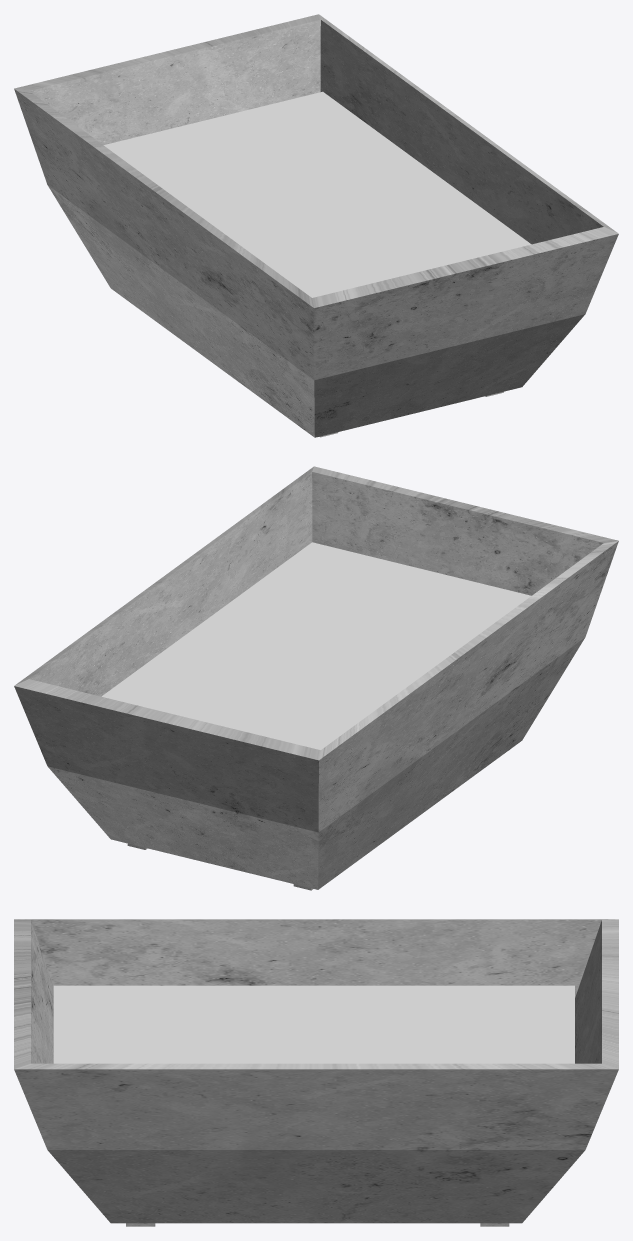
Rendered from tub.fbx.
3 renders of one model, top to bottom at view 1: azimuth 30°, elevation 25°; view 2: azimuth 150°, elevation 25°; view 3: azimuth 270°, elevation 25°, orthographic.
Parts seen in each view (by area): view 1: feet, blood; view 2: feet, blood; view 3: feet, blood.
Part boxes in pixels (x1=…): feet: x1=14, y1=14, x2=618, y2=437; blood: x1=103, y1=91, x2=531, y2=297; feet: x1=14, y1=466, x2=618, y2=890; blood: x1=102, y1=542, x2=531, y2=749; feet: x1=14, y1=919, x2=618, y2=1226; blood: x1=53, y1=985, x2=574, y2=1063.
Size of the model in its own units: 386 by 226 by 657.
Materials: 2 (1 with a texture image).
